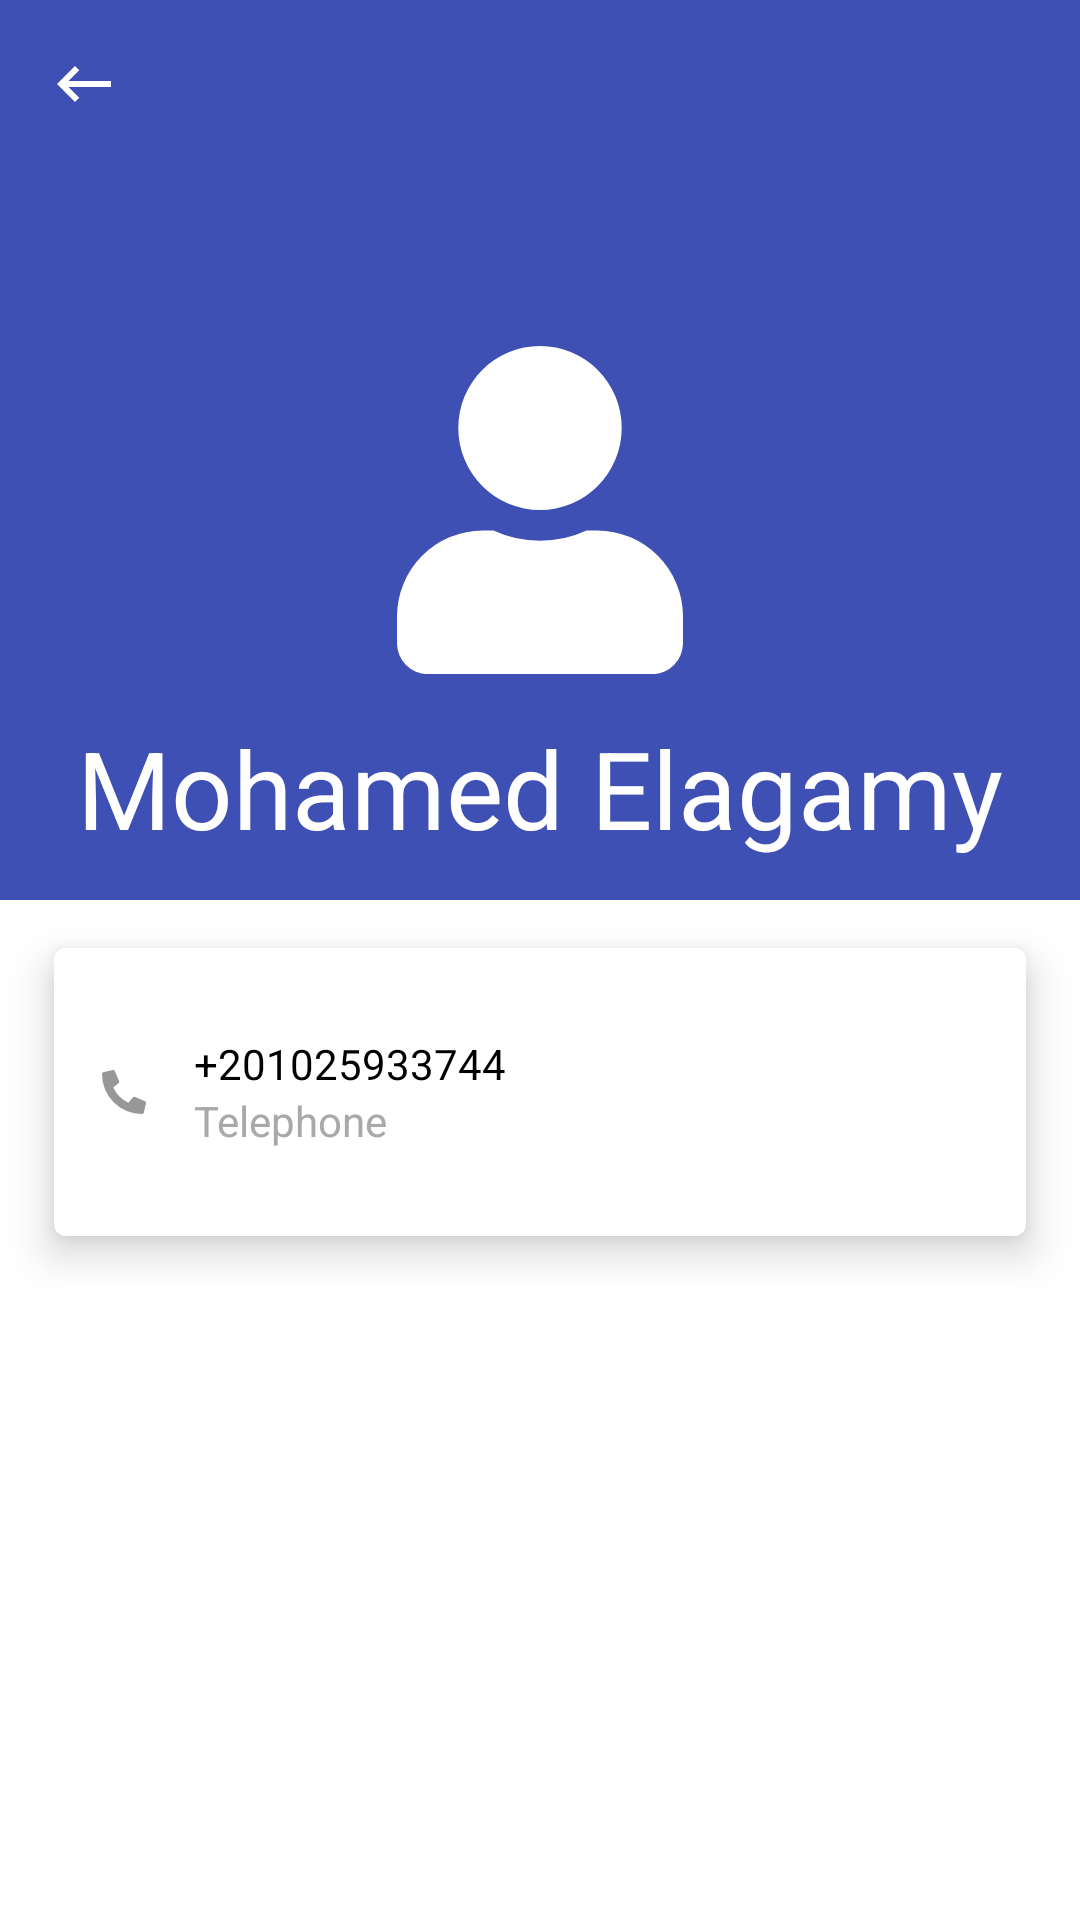

Icons on this 1080px x 1920px Android screen, each with the point to tap as [x,y]:
arrow back: [84,84]
user: [540,510]
